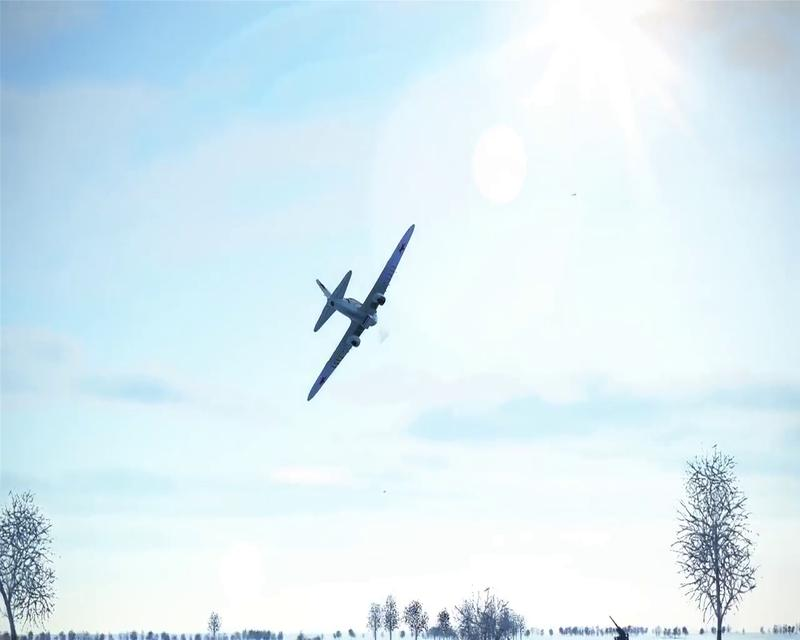UAV: (305, 222, 416, 401)
